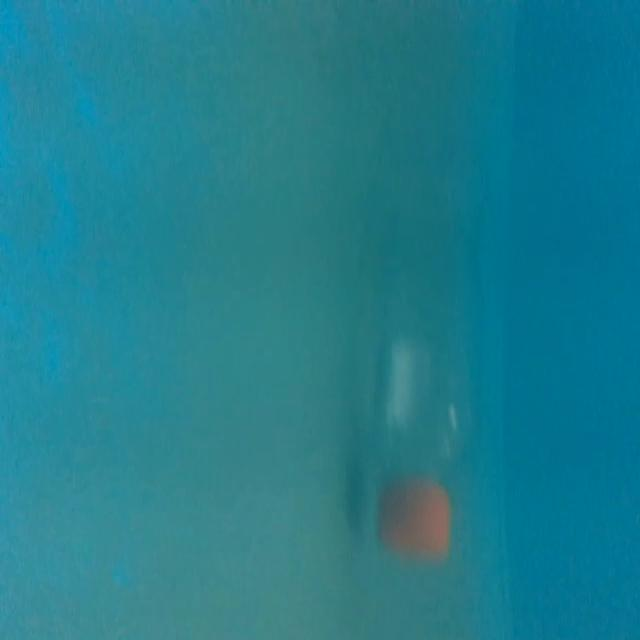plastic bottle: (348, 175, 489, 565)
